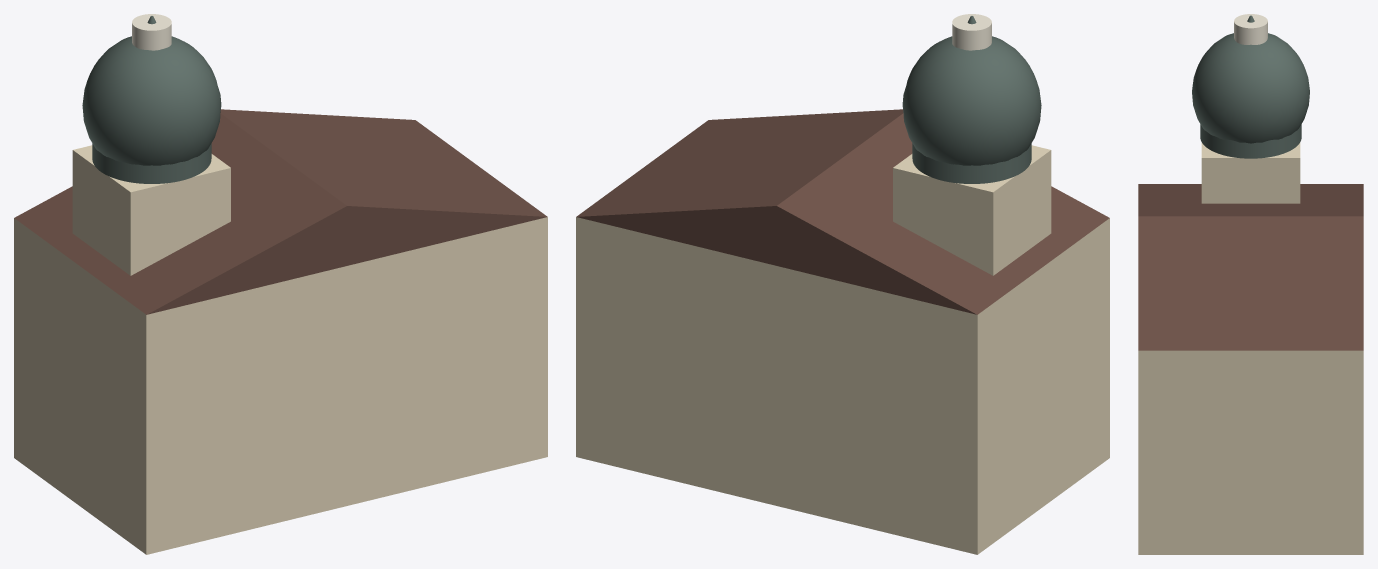
The model's file is d-ce-01-baroque-church-onion.glb.
The picture shows the model from 3 angles, left to right: view 1: azimuth 30°, elevation 25°; view 2: azimuth 150°, elevation 25°; view 3: azimuth 270°, elevation 25°; orthographic projection. The views are drawn at different scales.
Visible parts, largest first — view 1: part0, part1, part4, part2, part3, part6; view 2: part0, part1, part4, part2, part3, part6; view 3: part0, part1, part4, part2, part3, part6.
Boxes of the visible parts, x1,y1,x2,y2 form: part0: (14, 217, 547, 554); part1: (14, 109, 547, 314); part4: (82, 36, 221, 165); part2: (72, 145, 230, 275); part3: (92, 143, 211, 183); part6: (132, 14, 171, 50); part0: (576, 217, 1109, 554); part1: (576, 109, 1109, 314); part4: (902, 36, 1041, 165); part2: (893, 145, 1051, 275); part3: (912, 143, 1031, 183); part6: (952, 14, 991, 50); part0: (1138, 350, 1363, 554); part1: (1138, 184, 1363, 350); part4: (1192, 33, 1309, 143); part2: (1201, 142, 1300, 203); part3: (1200, 124, 1301, 158); part6: (1234, 14, 1267, 44).
Size of the model in its own units: 28000 by 31500 by 16000.
